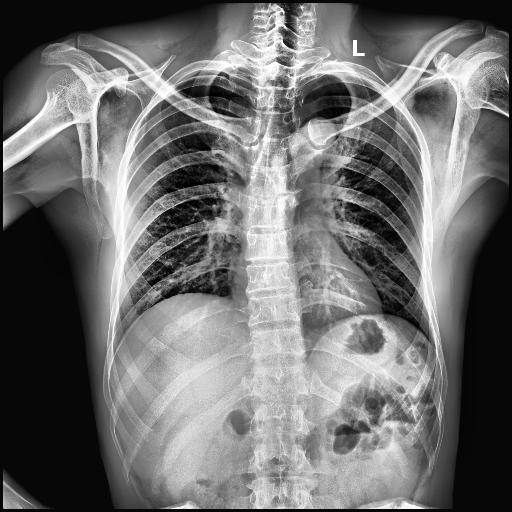0- Aortic enlargement: (288, 113, 334, 174), (284, 116, 336, 162), (294, 118, 336, 162)
11- Pleural thickening: (202, 68, 228, 74)
